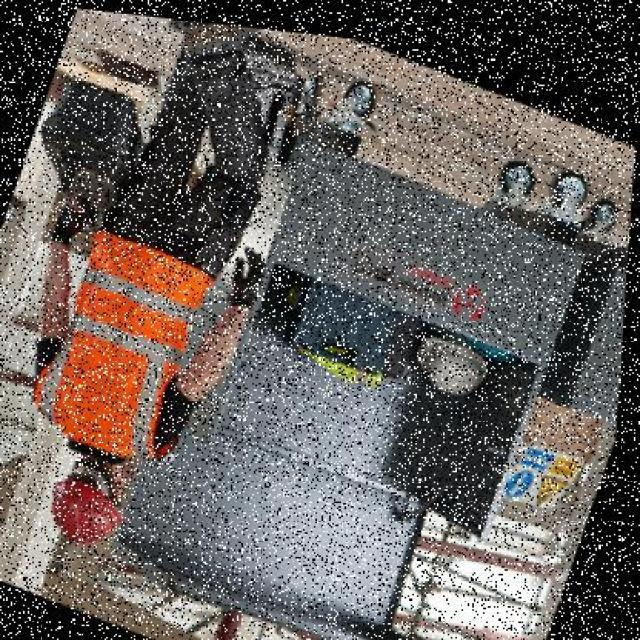helmet: (35, 452, 145, 556)
vest: (23, 214, 225, 484)
